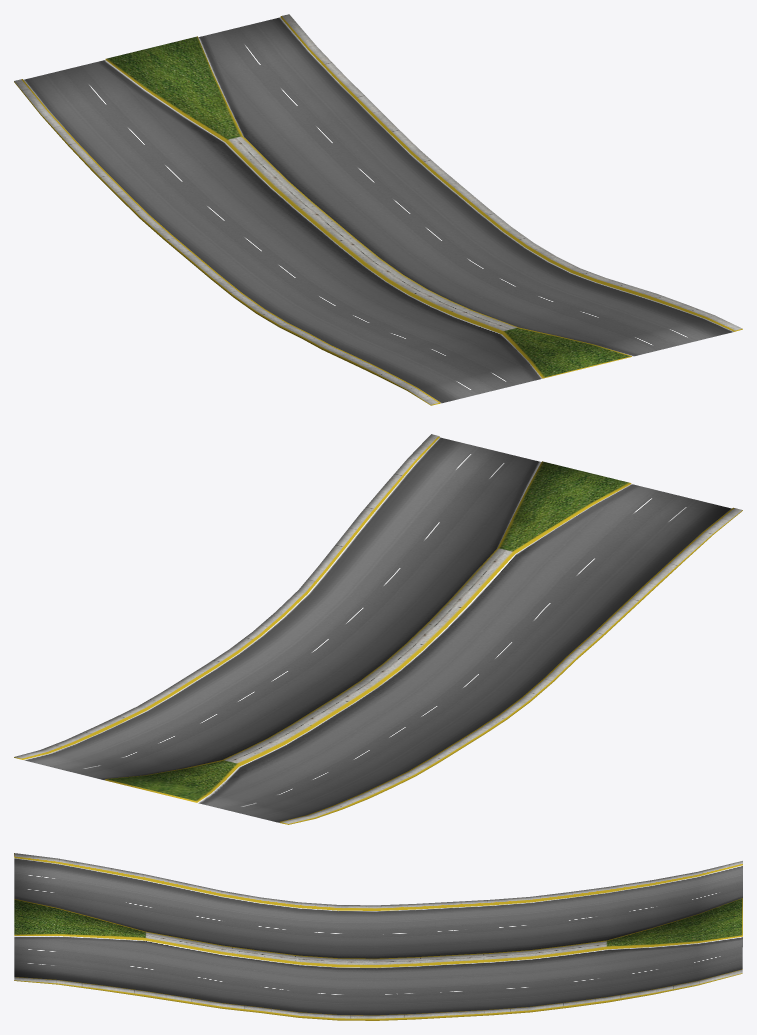
Rendered from PistaPuenteSuave.FBX.
The picture shows the model from 3 angles, top to bottom: view 1: azimuth 30°, elevation 25°; view 2: azimuth 150°, elevation 25°; view 3: azimuth 270°, elevation 25°; orthographic projection. The views are drawn at different scales.
Parts seen in each view (by area): view 1: Object072; view 2: Object072; view 3: Object072.
Boxes of the visible parts, box(x1,y1,x2,y2) form: Object072: box(14, 14, 742, 405); Object072: box(14, 434, 742, 824); Object072: box(14, 853, 742, 1020).
Size of the model in its own units: 1715 by 294 by 4151.
